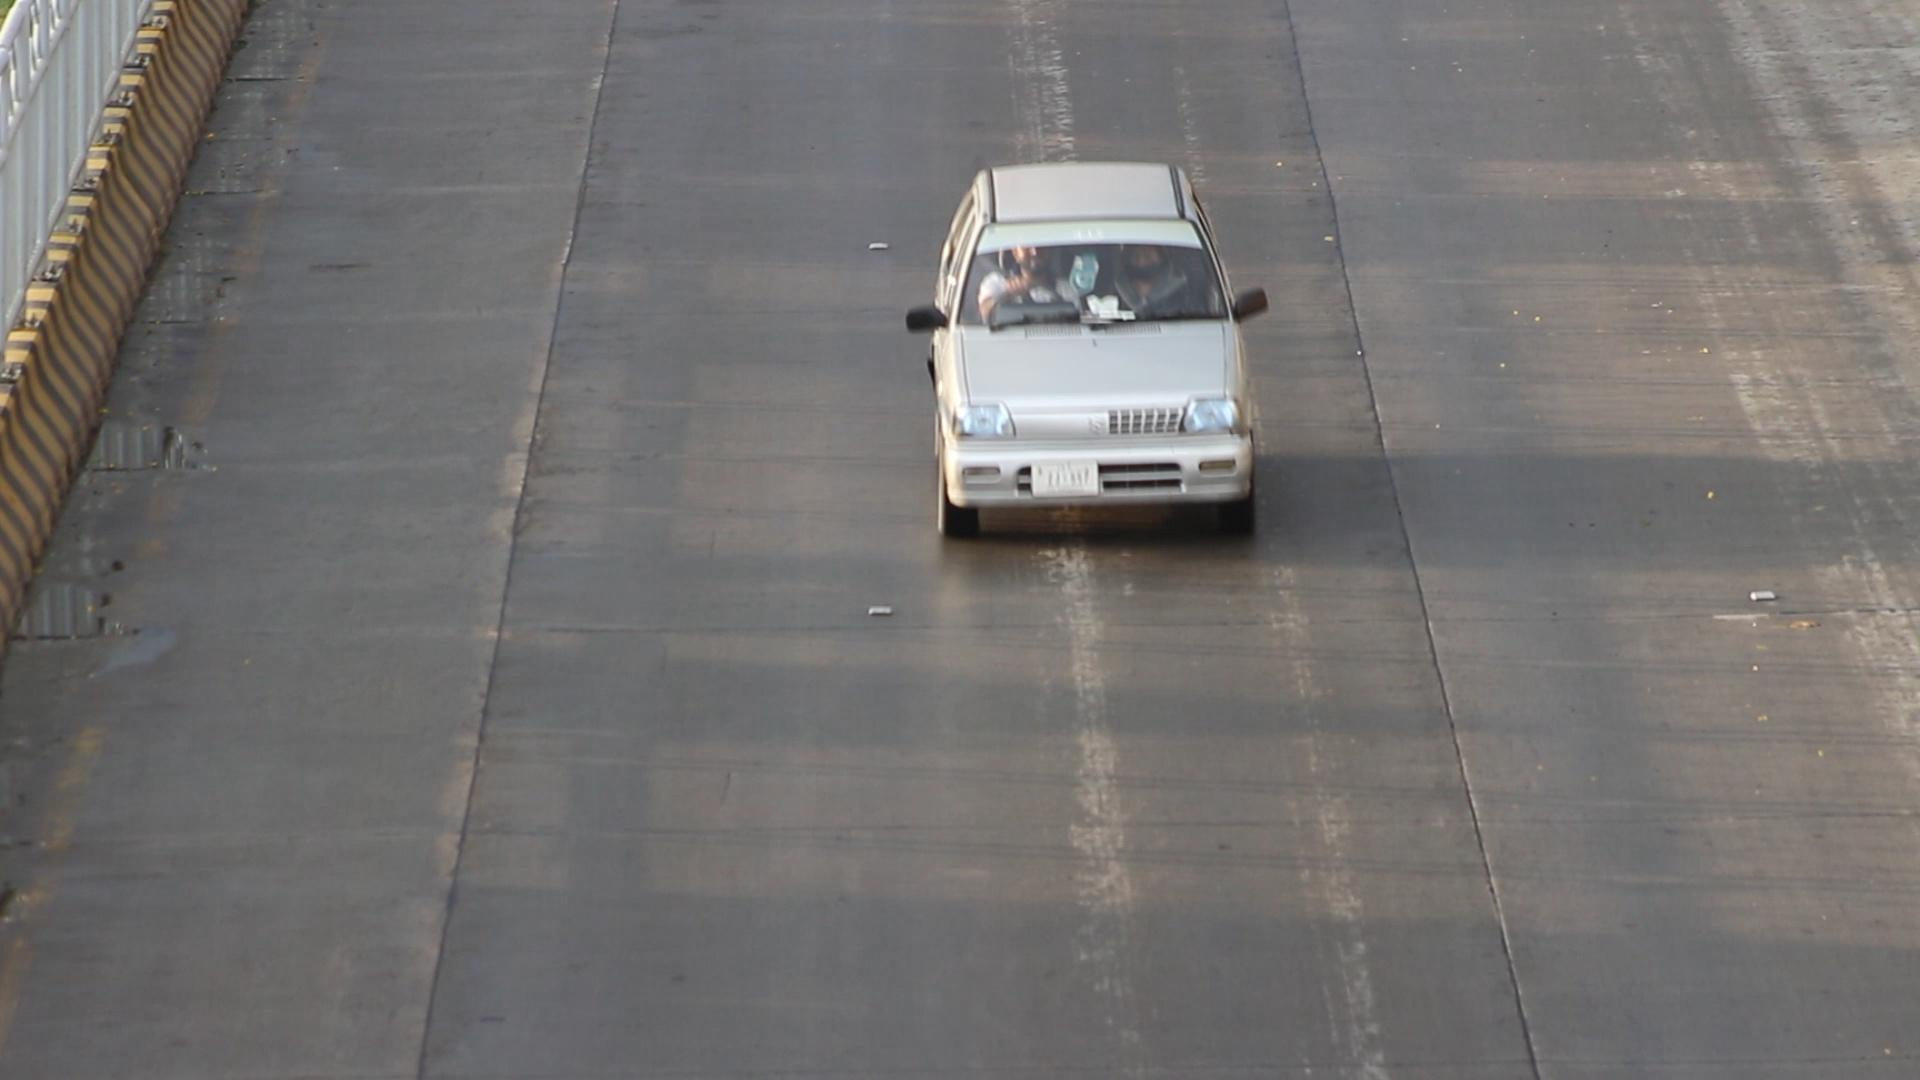windshield: (944, 210, 1241, 343)
